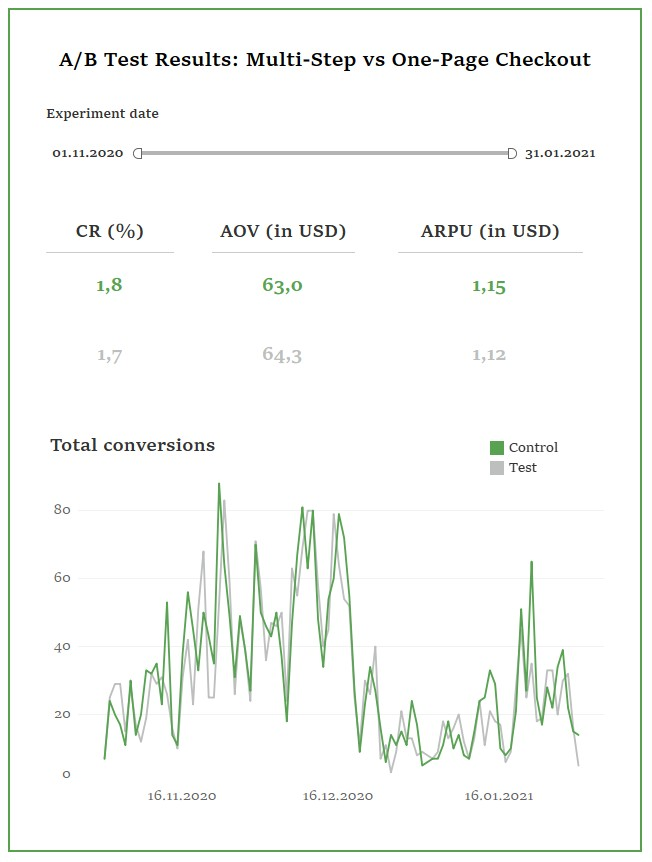

The page's visual inventory and layout, read from the dashboard file:
{"tool":"tableau","page":{"name":"A/B tests","canvas":[650,860],"ordinal":0},"visuals":[{"type":"blank","box":[10,10.7,32,838.6]},{"type":"blank","box":[42,10.7,566,34.1]},{"type":"blank","box":[608,10.7,32,838.6]},{"type":"text","box":[42,44.8,566,34.3]},{"type":"blank","box":[42,79.2,566,25.7]},{"type":"filter","title":"ARPU (in USD)","param":"[federated.1g5kzrl1c7s9d3115pgq10ukm1zb].[none:event_date:qk]","box":[42,104.9,566,83.7]},{"type":"blank","box":[42,188.5,566,26.7]},{"type":"worksheet","title":"CR (%)","mark":"Text","rows":["test_group"],"box":[42,215.2,166,179.3]},{"type":"worksheet","title":"AOV (in USD)","mark":"Text","rows":["test_group"],"box":[208,215.2,185.7,179.3]},{"type":"worksheet","title":"ARPU (in USD)","mark":"Automatic","rows":["test_group"],"box":[393.7,215.2,214.3,179.3]},{"type":"blank","box":[42,394.6,566,34.3]},{"type":"worksheet","title":"Total conversions","mark":"Automatic","rows":["orders"],"cols":["event_date"],"box":[42,428.8,566,386.1]},{"type":"legend","title":"Total conversions","param":"[federated.1g5kzrl1c7s9d3115pgq10ukm1zb].[none:test_group:nk]","box":[487,437.5,118,70.8]},{"type":"blank","box":[42,815,566,34.3]}]}

Visuals, with their boxes in screenshot pixels (x1, y1, x2, y2), scaled from the page's 650x860 canvas onto the 652x862 screenshot:
blank: 10,11,42,851
blank: 42,11,610,45
blank: 610,11,642,851
text: 42,45,610,79
blank: 42,79,610,105
"ARPU (in USD)" filter: 42,105,610,189
blank: 42,189,610,216
"CR (%)" worksheet (Text marks): 42,216,209,395
"AOV (in USD)" worksheet (Text marks): 209,216,395,395
"ARPU (in USD)" worksheet: 395,216,610,395
blank: 42,396,610,430
"Total conversions" worksheet: 42,430,610,817
"Total conversions" legend: 488,439,607,509
blank: 42,817,610,851
